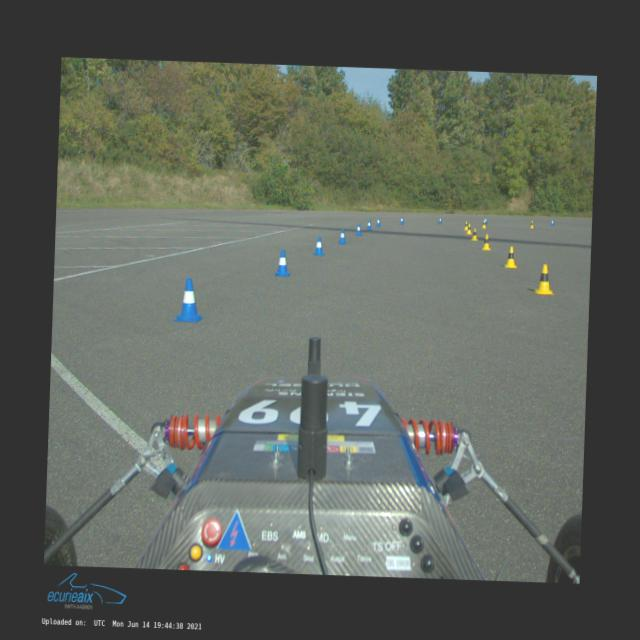blue_cone: (173, 277, 205, 322), (274, 249, 291, 276), (312, 236, 324, 255), (337, 228, 347, 244), (354, 223, 362, 236), (366, 220, 372, 230), (399, 216, 404, 224), (484, 216, 488, 224), (376, 218, 380, 226), (438, 216, 442, 223), (550, 219, 554, 225)
yellow_cone: (532, 264, 555, 294), (504, 245, 518, 268), (482, 234, 492, 250), (470, 228, 478, 240), (467, 223, 472, 234), (463, 220, 468, 230), (529, 220, 534, 228), (481, 220, 486, 228)
